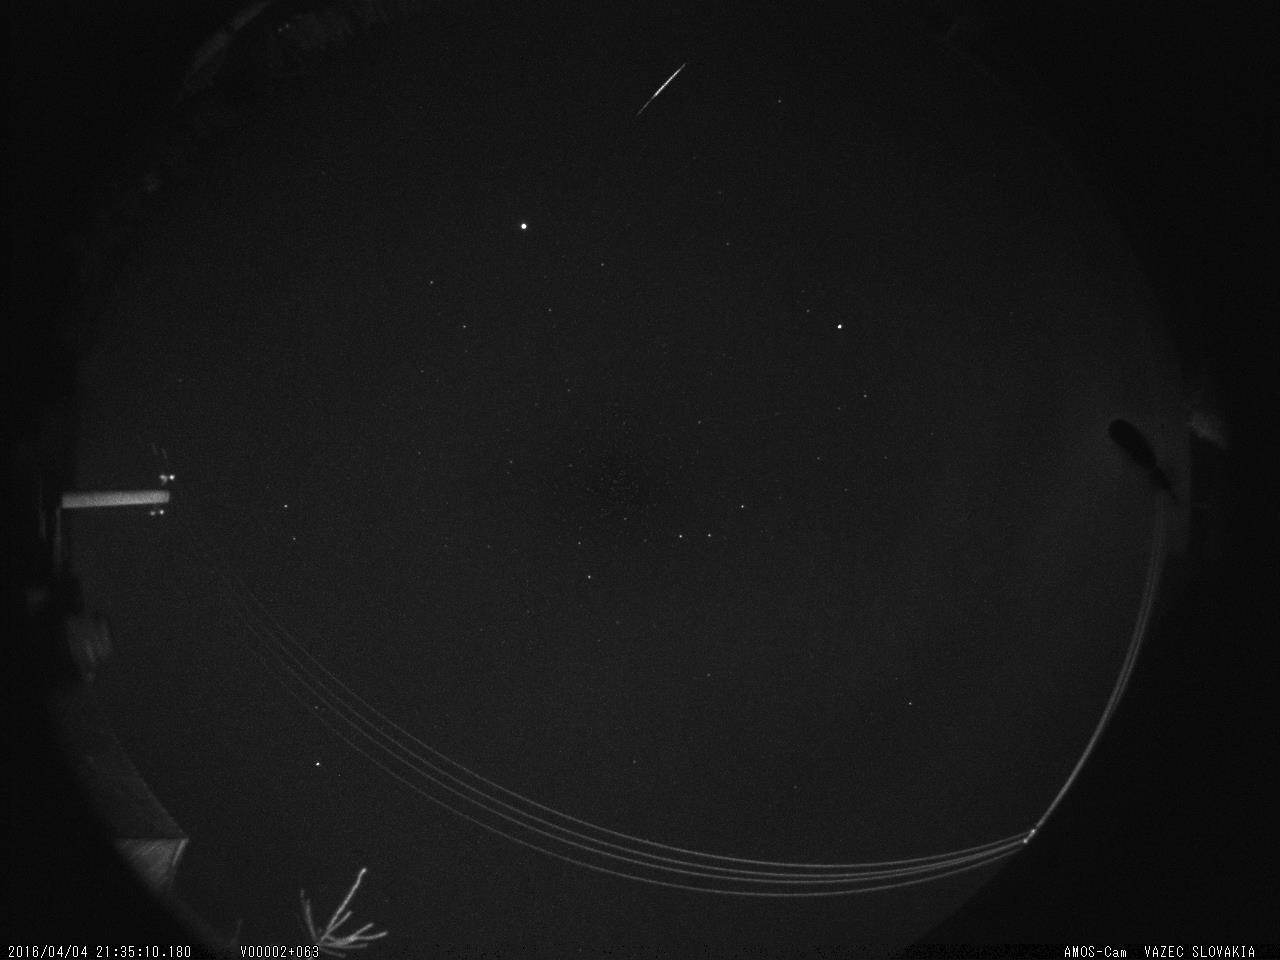meteor: (598, 58, 707, 129)
